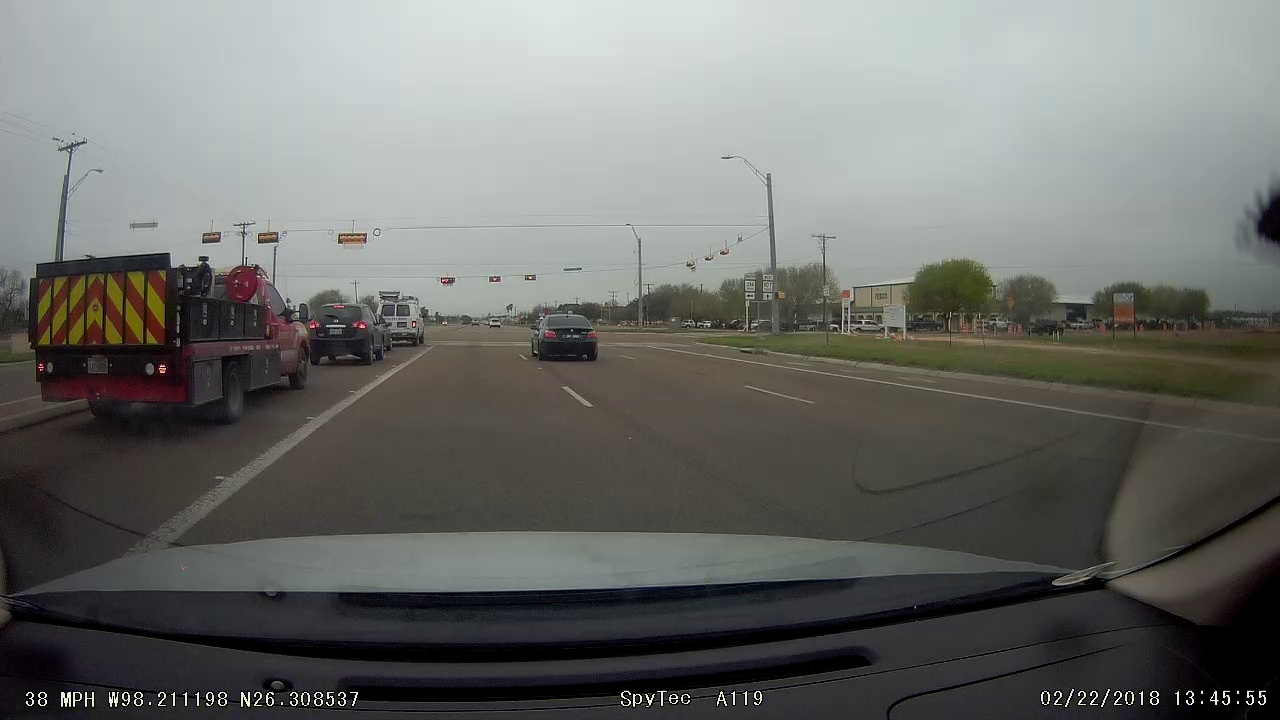alligatorCrack: (212, 449, 273, 505)
